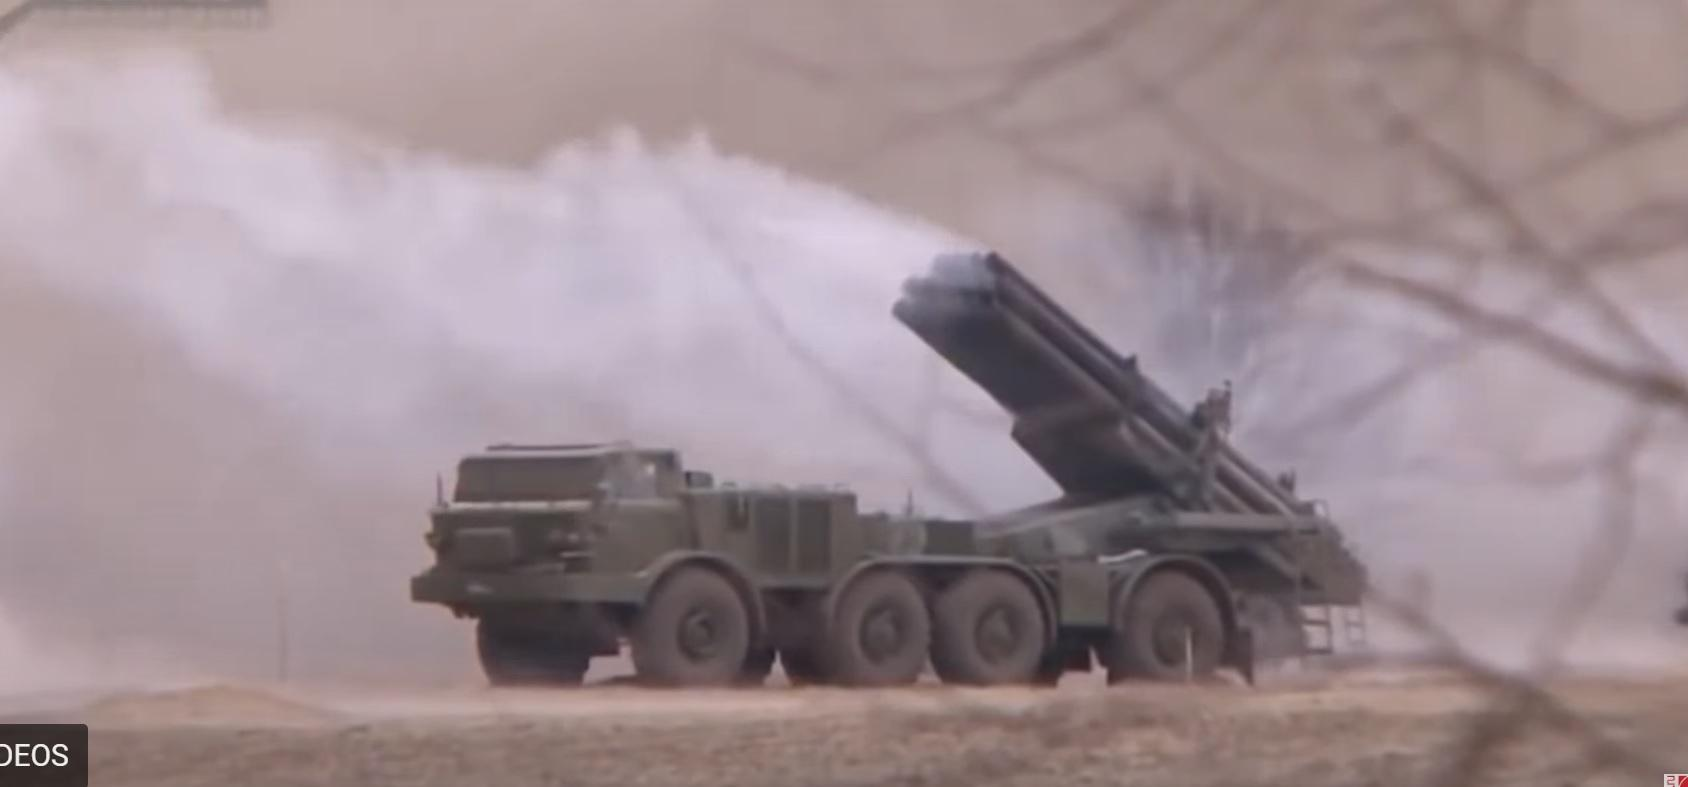MIL_SAM_TEL: (405, 247, 1376, 718)
